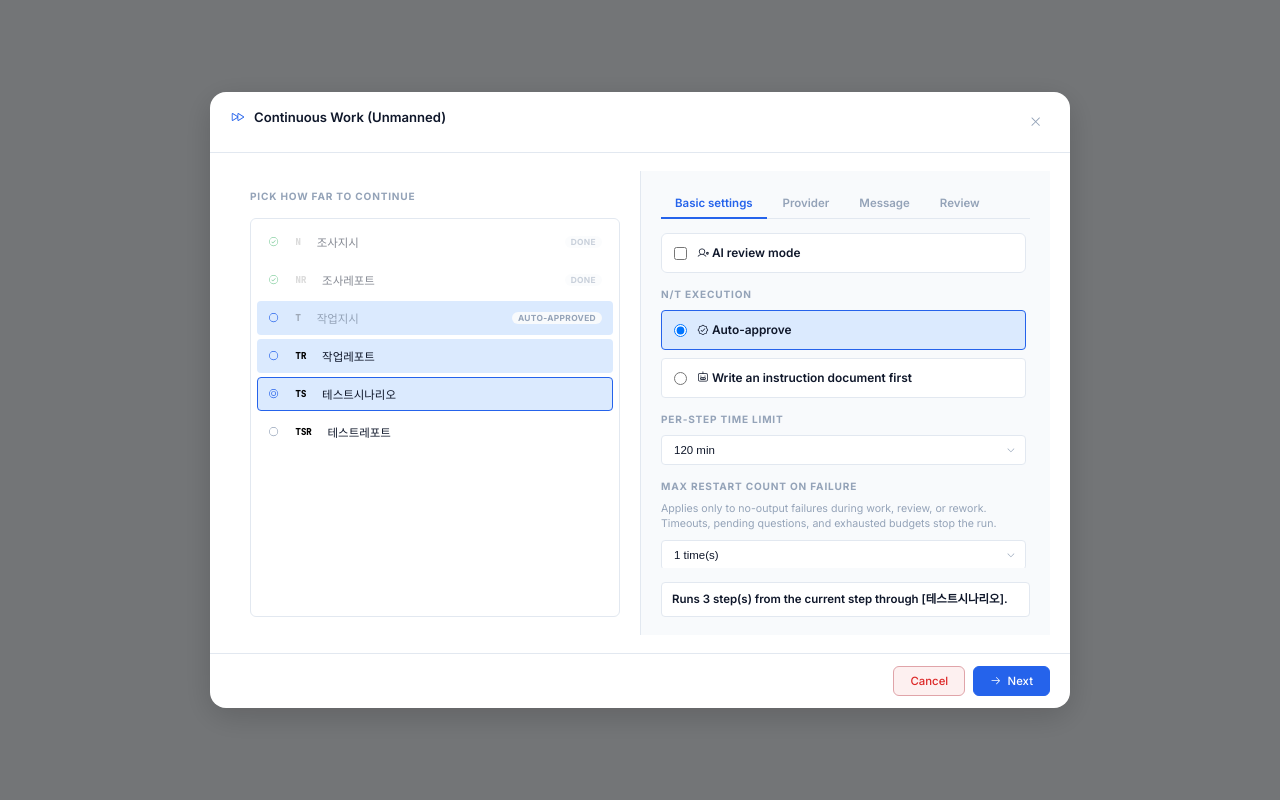
Test: ContinuousWorkDialog › shows an empty-provider guidance card when no providers are registered
Click the button with class "cwd-tab" showing "Provider" at point(806, 204), box [769,189,843,219]
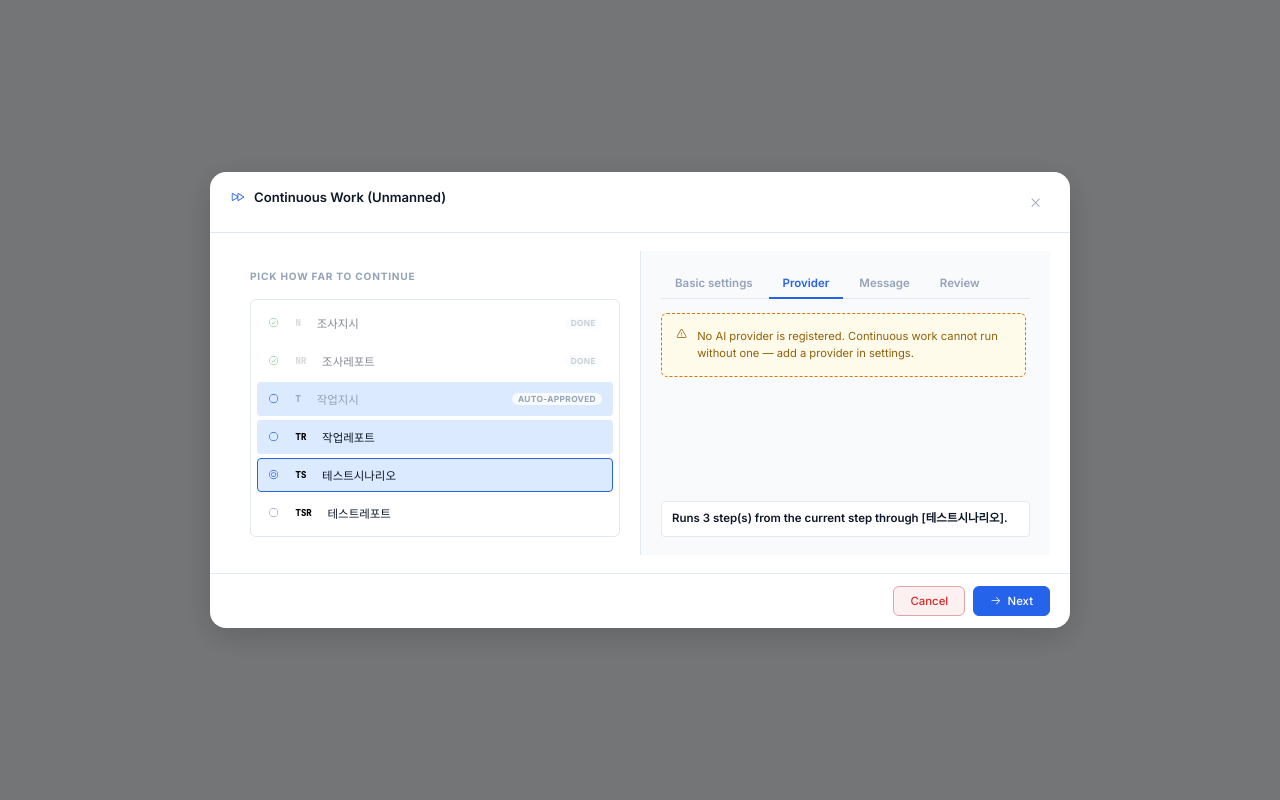
Expected: the element with class "cwd-empty-card" is shown, [661,313,1026,377]
